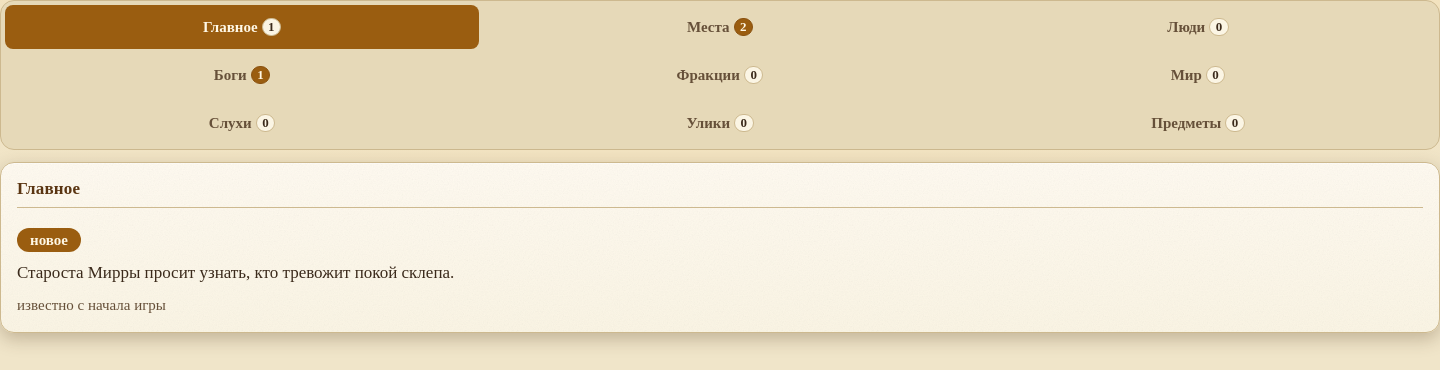
разделы дневника › пустой раздел — «Пока ничего не известно»
What coordinates should you click on to do the following:
click the tab "Фракции 0"
I would click on:
 (720, 75)
Its box is left=483, top=53, right=957, bottom=97.
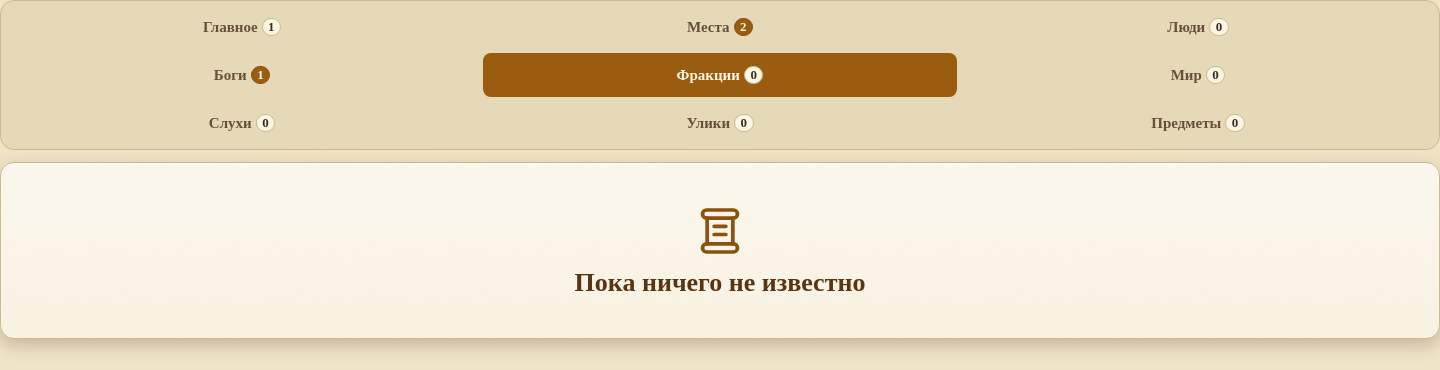
expect the text "Пока ничего не известно" is shown: met, box left=575, top=267, right=865, bottom=298
